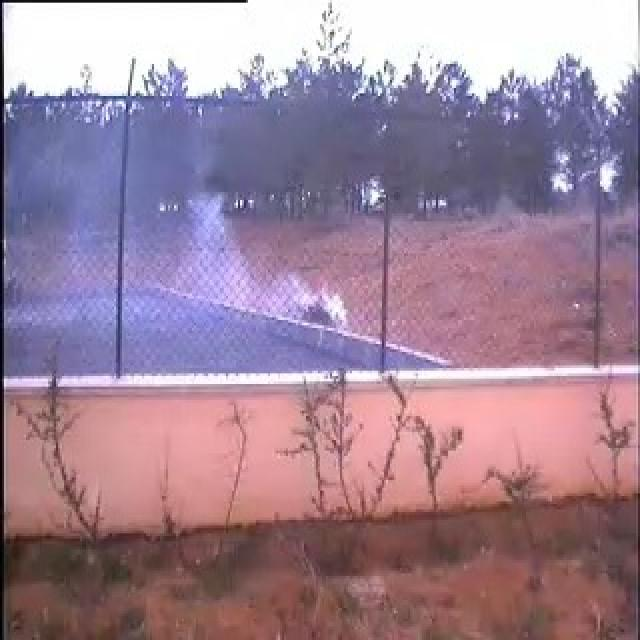smoke: (25, 138, 255, 372)
